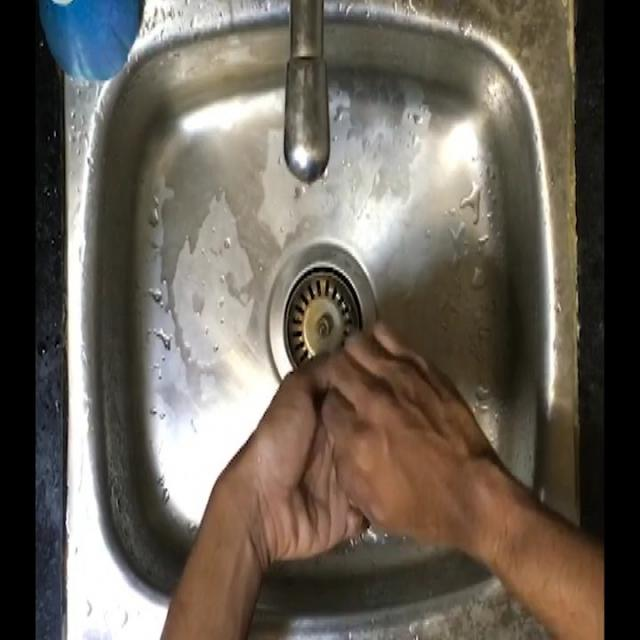step_4: (244, 322, 481, 556)
